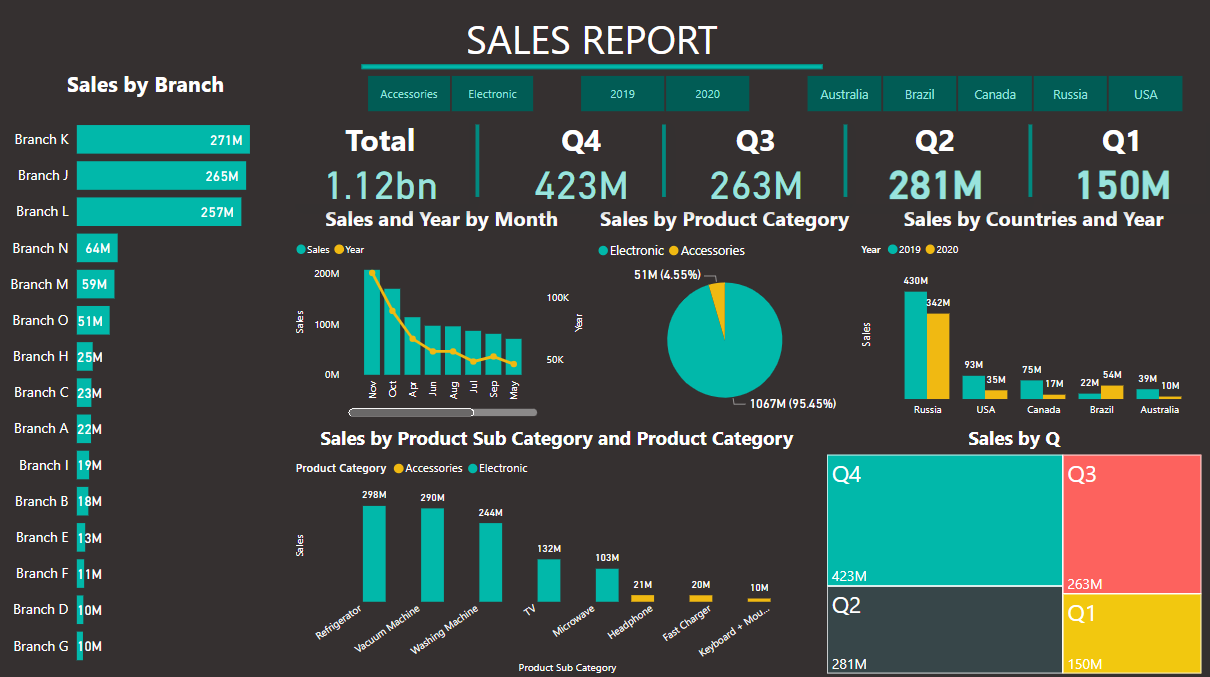

What the dashboard file says about the page in this screenshot:
{"tool":"powerbi","page":{"name":"Sales Report","canvas":[1280,720],"ordinal":0},"visuals":[{"type":"treemap","fields":{"Values":["Sum(Table15.Sales)"],"Group":["Table15.Q"]},"box":[869.9,449.8,406.1,268.6],"z":0},{"type":"clusteredColumnChart","fields":{"Category":["Table15.Product Sub Category"],"Y":["Sum(Table15.Sales)"],"Series":["Table15.Product Category"]},"box":[307.7,449.8,562.3,268.6],"z":1000},{"type":"clusteredBarChart","fields":{"Y":["Sum(Table15.Sales)"],"Category":["Table15.Branch"]},"box":[0,73.7,308.2,646.6],"z":2000},{"type":"lineStackedColumnComboChart","fields":{"Y":["Sum(Table15.Sales)"],"Category":["Table15.Month"],"Y2":["Sum(Table15.Year)"]},"box":[307.7,215.5,318.6,229.6],"z":3000},{"type":"pieChart","fields":{"Category":["Table15.Product Category"],"Y":["Sum(Table15.Sales)"]},"box":[626.3,215.5,279.6,229.6],"z":4000},{"type":"clusteredColumnChart","fields":{"Y":["Sum(Table15.Sales)"],"Category":["Table15.Countries"],"Series":["Table15.Year"]},"box":[905.9,215.5,374.8,234.3],"z":5000},{"type":"card","title":"Q1","fields":{"Values":["Sum(Table15.Sales)"]},"box":[1098,124.9,178,90.6],"z":6000},{"type":"card","title":"Q2","fields":{"Values":["Sum(Table15.Sales)"]},"box":[894.9,124.9,189,90.6],"z":7000},{"type":"card","title":"Q3","fields":{"Values":["Sum(Table15.Sales)"]},"box":[704.4,124.9,190.5,90.6],"z":8000},{"type":"card","title":"Q4","fields":{"Values":["Sum(Table15.Sales)"]},"box":[524.8,124.9,179.6,90.6],"z":9000},{"type":"card","title":"Total","fields":{"Values":["Sum(Table15.Sales)"]},"box":[307.7,124.9,189,90.6],"z":10000},{"type":"shape","title":"SALES REPORT","box":[381.9,13.2,487.8,60.5],"z":11000},{"type":"shape","box":[866.8,131.2,56.2,76.5],"z":12000},{"type":"shape","box":[1079.2,131.2,21.9,76.5],"z":13000},{"type":"shape","box":[674.7,131.2,56.2,76.5],"z":14000},{"type":"shape","box":[476.4,131.2,57.8,76.5],"z":15000},{"type":"slicer","fields":{"Values":["Table15.Product Category"]},"box":[363.9,73.4,224.9,51.5],"z":16000},{"type":"slicer","fields":{"Values":["Table15.Year"]},"box":[588.8,73.4,228,51.5],"z":17000},{"type":"slicer","fields":{"Values":["Table15.Countries"]},"box":[829.3,73.4,446.7,51.5],"z":18000}]}

Visuals, with their boxes in screenshot pixels (x1, y1, x2, y2), scaled from the page's 1280x720 canvas onto the 1210x677 screenshot:
treemap - Sum(Table15.Sales) x Table15.Q: 822 423 1206 675
clusteredColumnChart - Table15.Product Sub Category x Sum(Table15.Sales): 291 423 822 675
clusteredBarChart - Sum(Table15.Sales) x Table15.Branch: 0 69 291 676
lineStackedColumnComboChart - Sum(Table15.Sales) x Table15.Month: 291 203 592 419
pieChart - Table15.Product Category x Sum(Table15.Sales): 592 203 856 419
clusteredColumnChart - Sum(Table15.Sales) x Table15.Countries: 856 203 1209 423
"Q1" card: 1038 117 1206 203
"Q2" card: 846 117 1025 203
"Q3" card: 666 117 846 203
"Q4" card: 496 117 666 203
"Total" card: 291 117 470 203
"SALES REPORT" shape: 361 12 822 69
shape: 819 123 873 195
shape: 1020 123 1041 195
shape: 638 123 691 195
shape: 450 123 505 195
slicer - Table15.Product Category: 344 69 557 117
slicer - Table15.Year: 557 69 772 117
slicer - Table15.Countries: 784 69 1206 117
